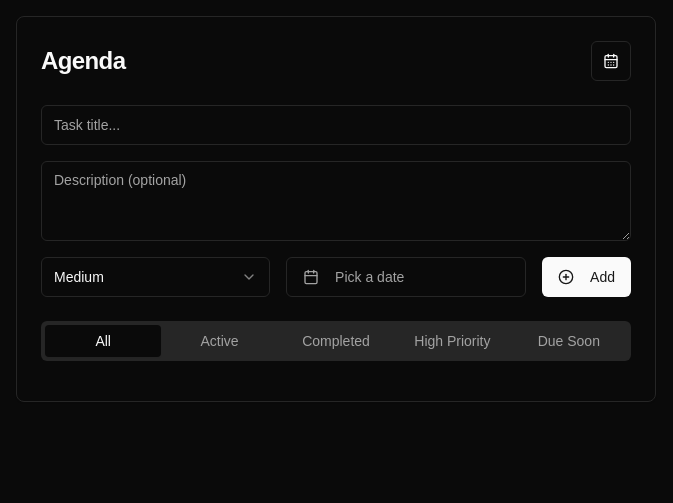
AgendaPage › Task Creation › adds a new task with basic information
This screenshot has width=673, height=503.
Type "New Test Task" into the field with placeholder "Task title..." at (336, 125), box [41,105,631,145]
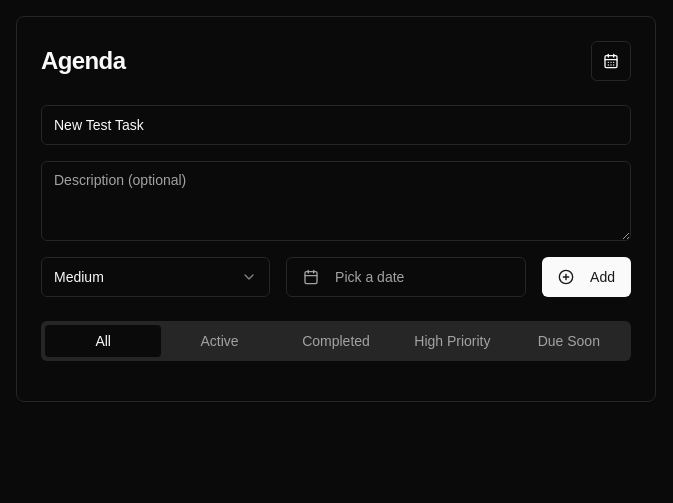
Click the button "Add" at (587, 277), box [542,257,631,297]
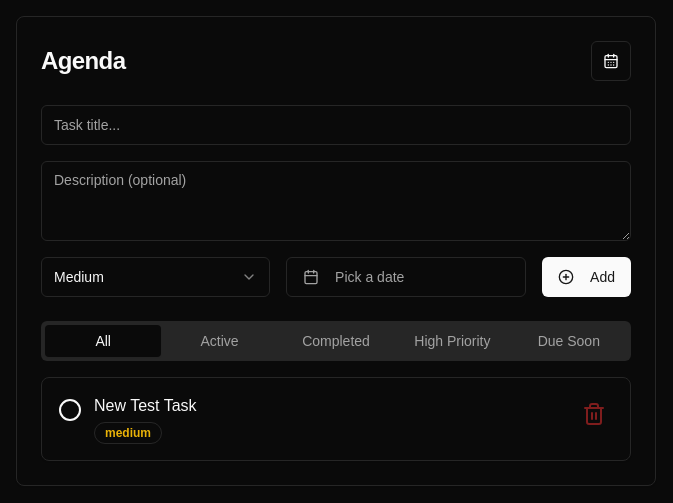
Expected: the text "New Test Task" is shown, [94,397,197,414]
